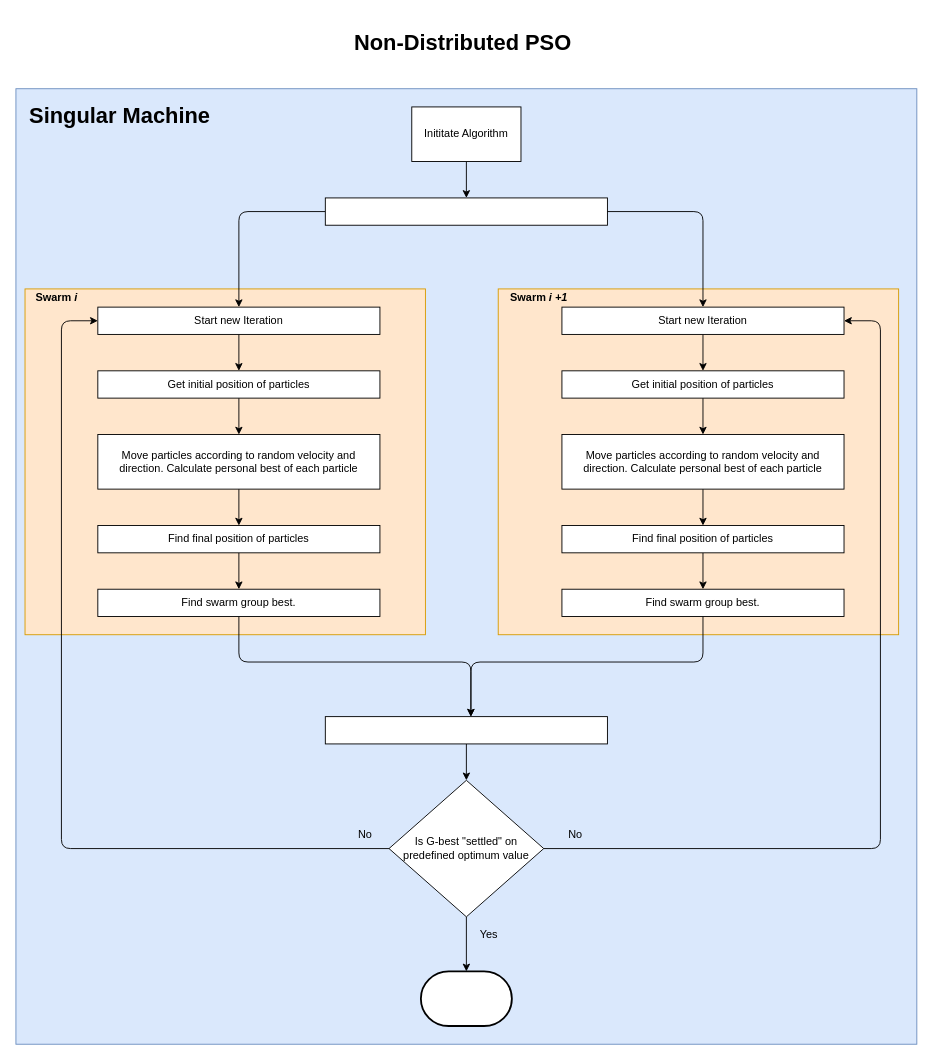
Some shapes in this 933 by 1060 pixel diagram are drawn without their labels. The centre of each missing label's shape, as x and y in pixels:
"Create Swarm i with n Particles" goes at point (465, 211).
"End Algorythim" goes at point (466, 998).
"Gather gbest from all other swarm iterations" goes at point (465, 730).
